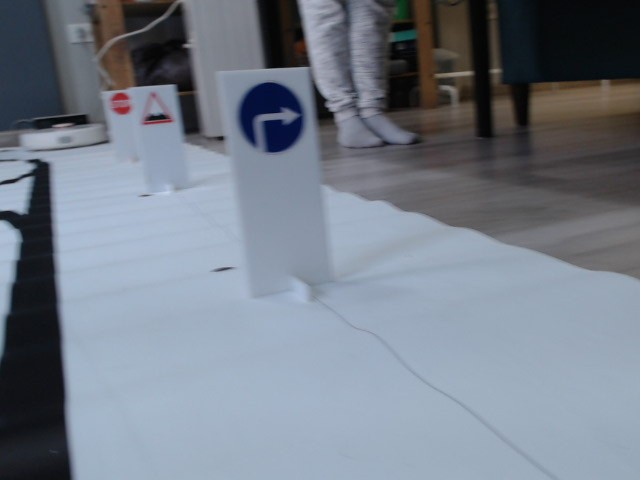Nerov: (142, 90, 174, 124)
Right: (235, 79, 305, 157)
